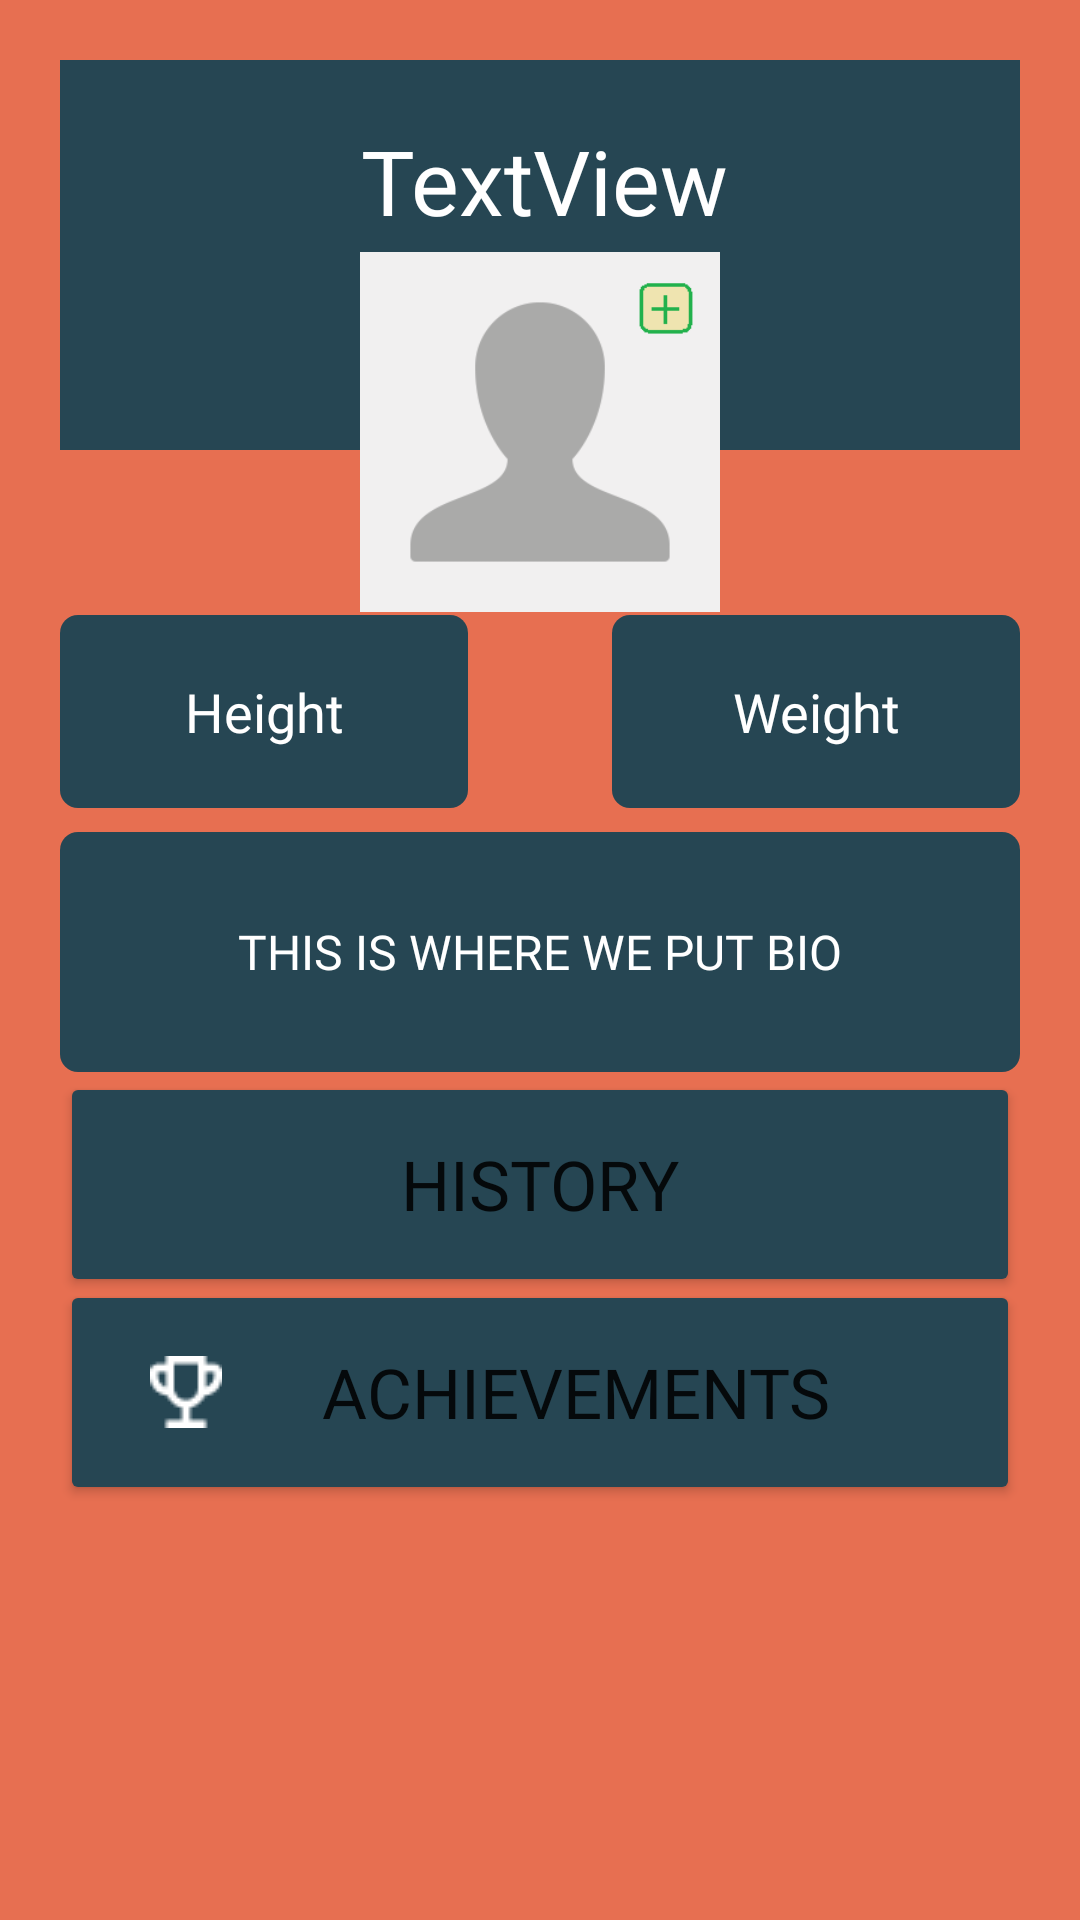

Named icons in this screenshot (1080px x 1920px) and their centers, (x,y):
prof: (540,432)
